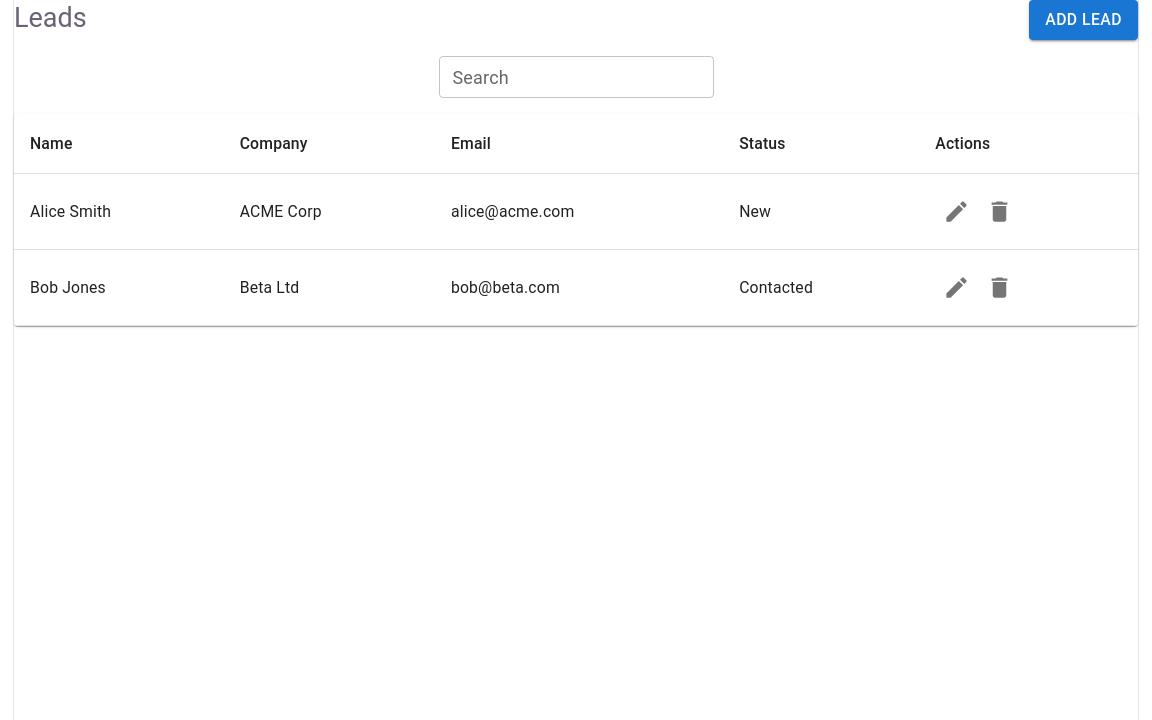
Test: LeadListPage › opens delete confirmation dialog when delete button is clicked
Click the 3rd button. click: click(1000, 212)
box: [978, 190, 1021, 233]
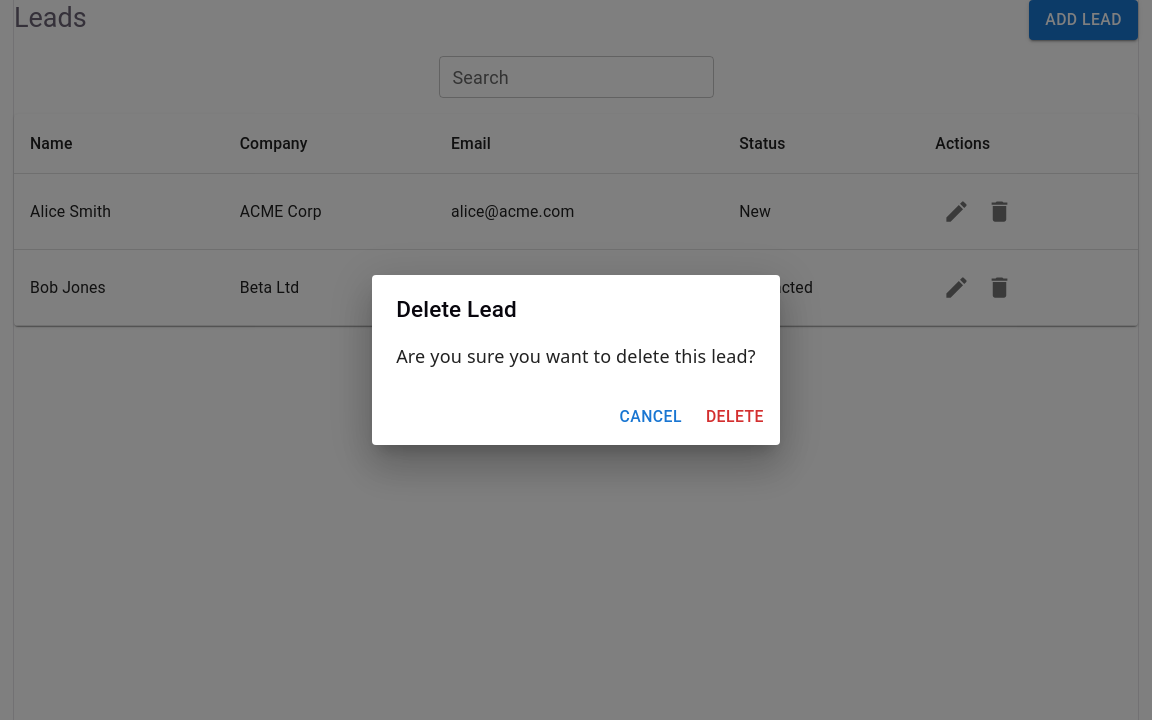
Check: the dialog is shown, box [372, 275, 780, 445]
Check: the heading "Delete Lead" is shown, box [396, 296, 517, 322]
